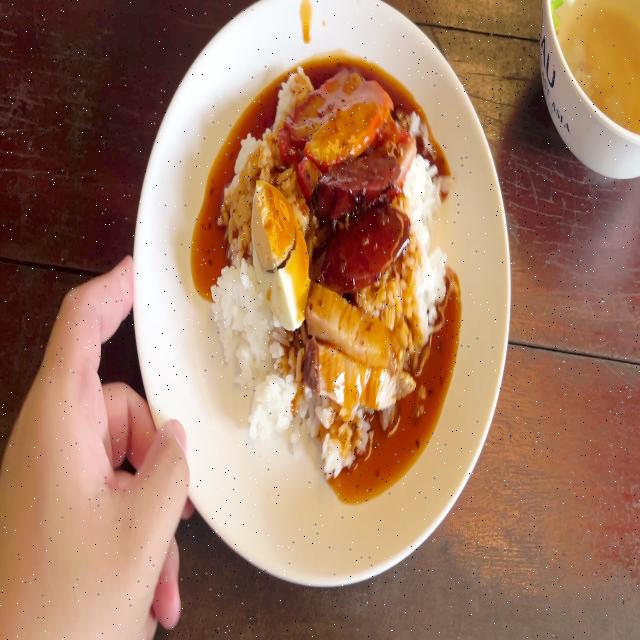boiled_egg: (252, 182, 309, 326)
chainese_sausage: (313, 158, 402, 280)
crispy_pork: (307, 291, 406, 406)
red_pork: (292, 64, 378, 162)
red_pork_and_crispy_pork: (208, 60, 438, 445)
rice: (203, 259, 262, 377), (244, 366, 299, 438), (234, 133, 295, 181)
